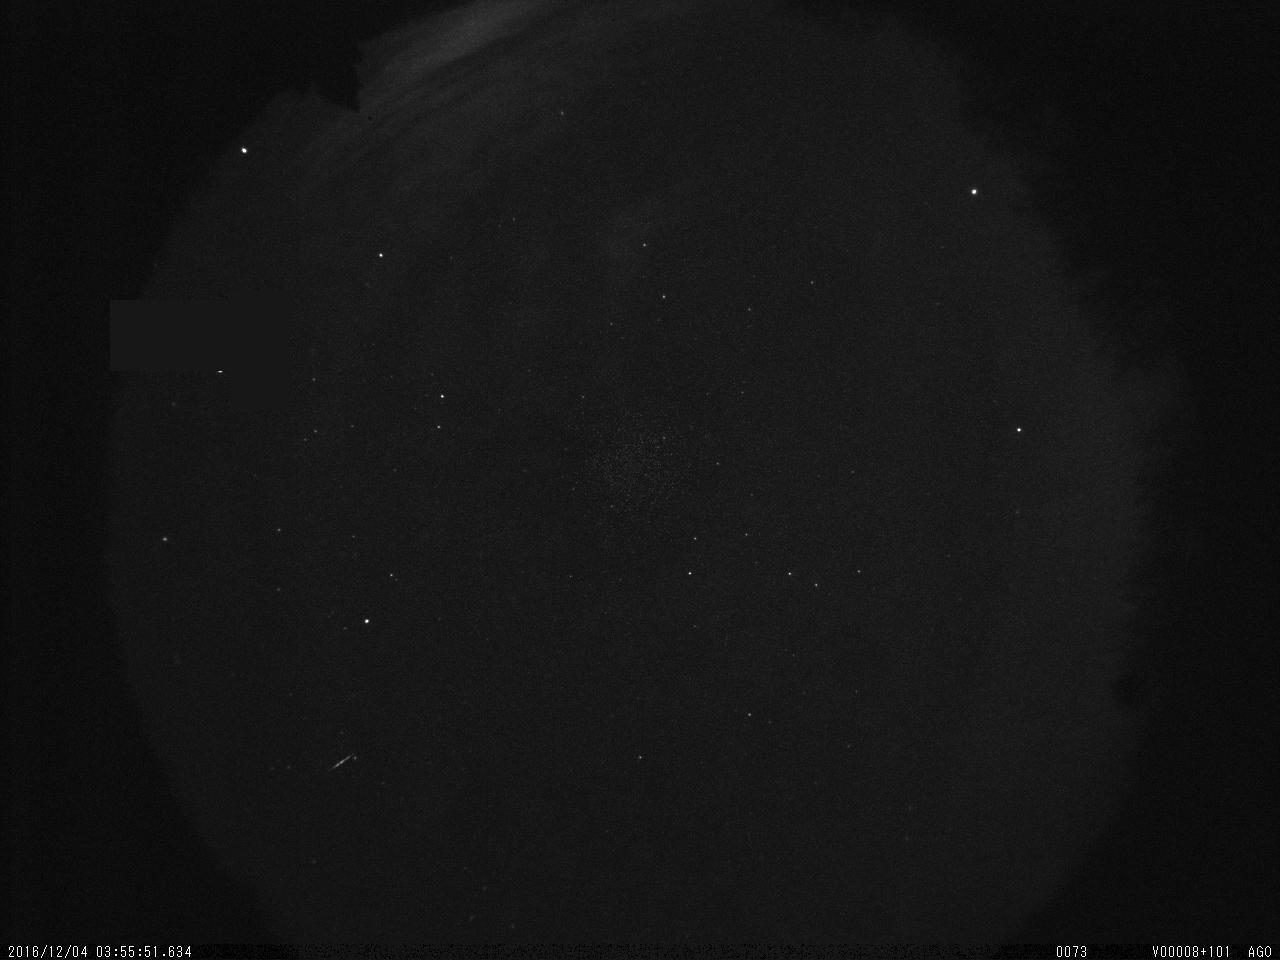meteor: (319, 750, 361, 778)
